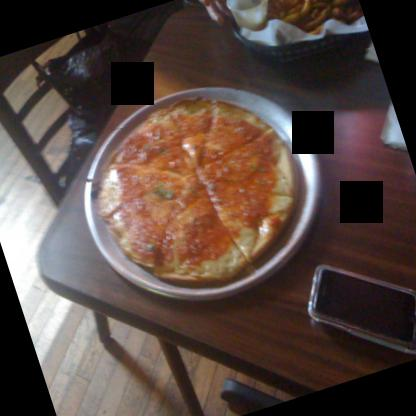handbag: (44, 34, 132, 188)
